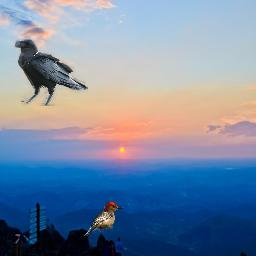Crow: (13, 39, 88, 106)
Woodpecker: (83, 201, 124, 237)
